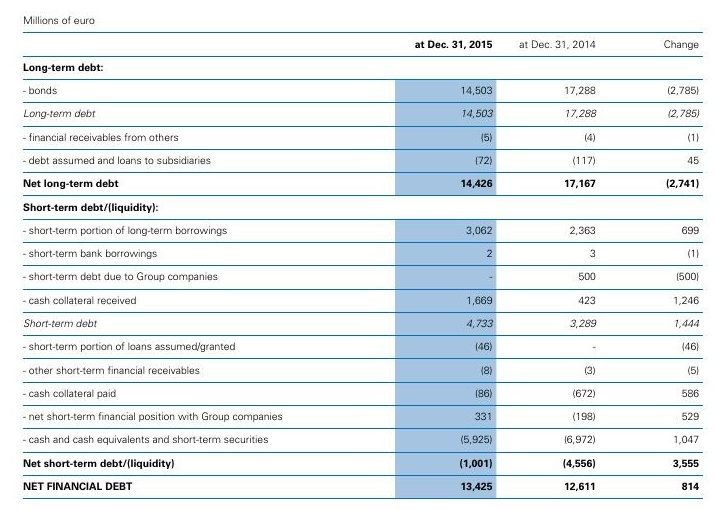table: (0, 0, 721, 510)
